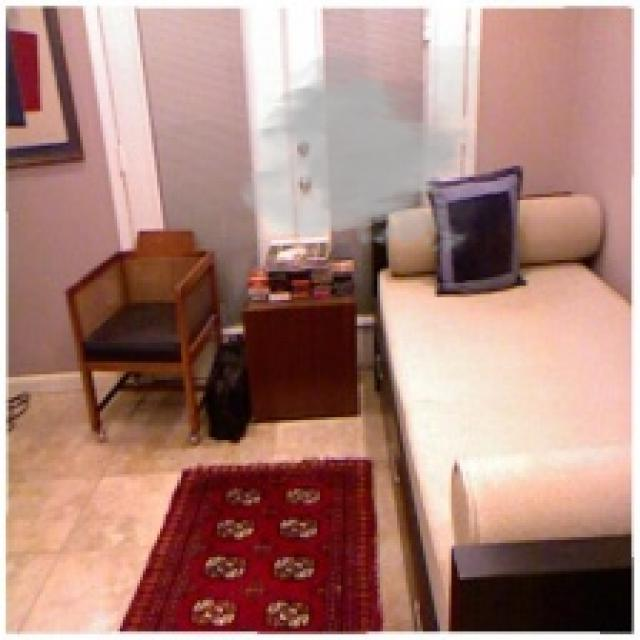smoke: (235, 46, 494, 260)
